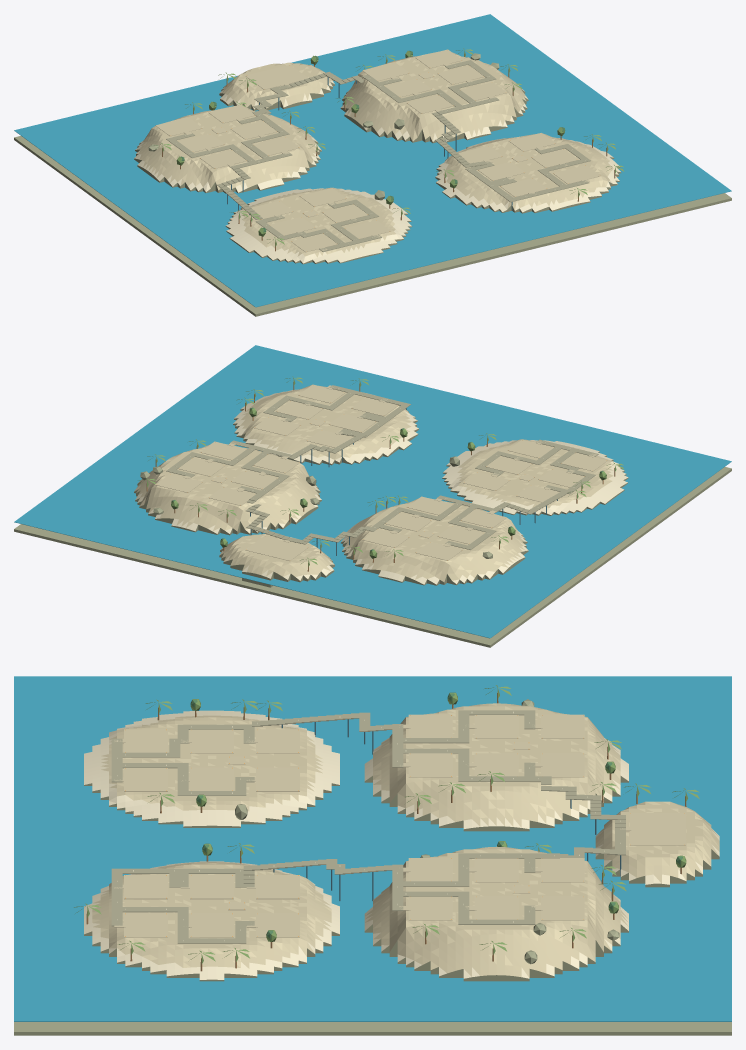
File: ground.glb
3 views of the same model, one above another, from view 1: azimuth 30°, elevation 25°; view 2: azimuth 150°, elevation 25°; view 3: azimuth 270°, elevation 25° (orthographic). The views are drawn at different scales.
Visible parts, largest first — view 1: planet_ocean__Terrain, planet_ocean__Roads, planet_ocean__Decoration; view 2: planet_ocean__Terrain, planet_ocean__Roads, planet_ocean__Decoration; view 3: planet_ocean__Terrain, planet_ocean__Roads, planet_ocean__Decoration.
Part boxes in pixels (box(x1,y1,x2,y2)): planet_ocean__Terrain: box(14, 14, 731, 316); planet_ocean__Roads: box(155, 49, 600, 252); planet_ocean__Decoration: box(148, 48, 624, 251); planet_ocean__Terrain: box(14, 345, 731, 647); planet_ocean__Roads: box(155, 384, 607, 560); planet_ocean__Decoration: box(138, 376, 623, 571); planet_ocean__Terrain: box(14, 676, 731, 1035); planet_ocean__Roads: box(111, 710, 685, 943); planet_ocean__Decoration: box(74, 685, 699, 971).
Size of the model in its own units: 198 by 15.65 by 174.
